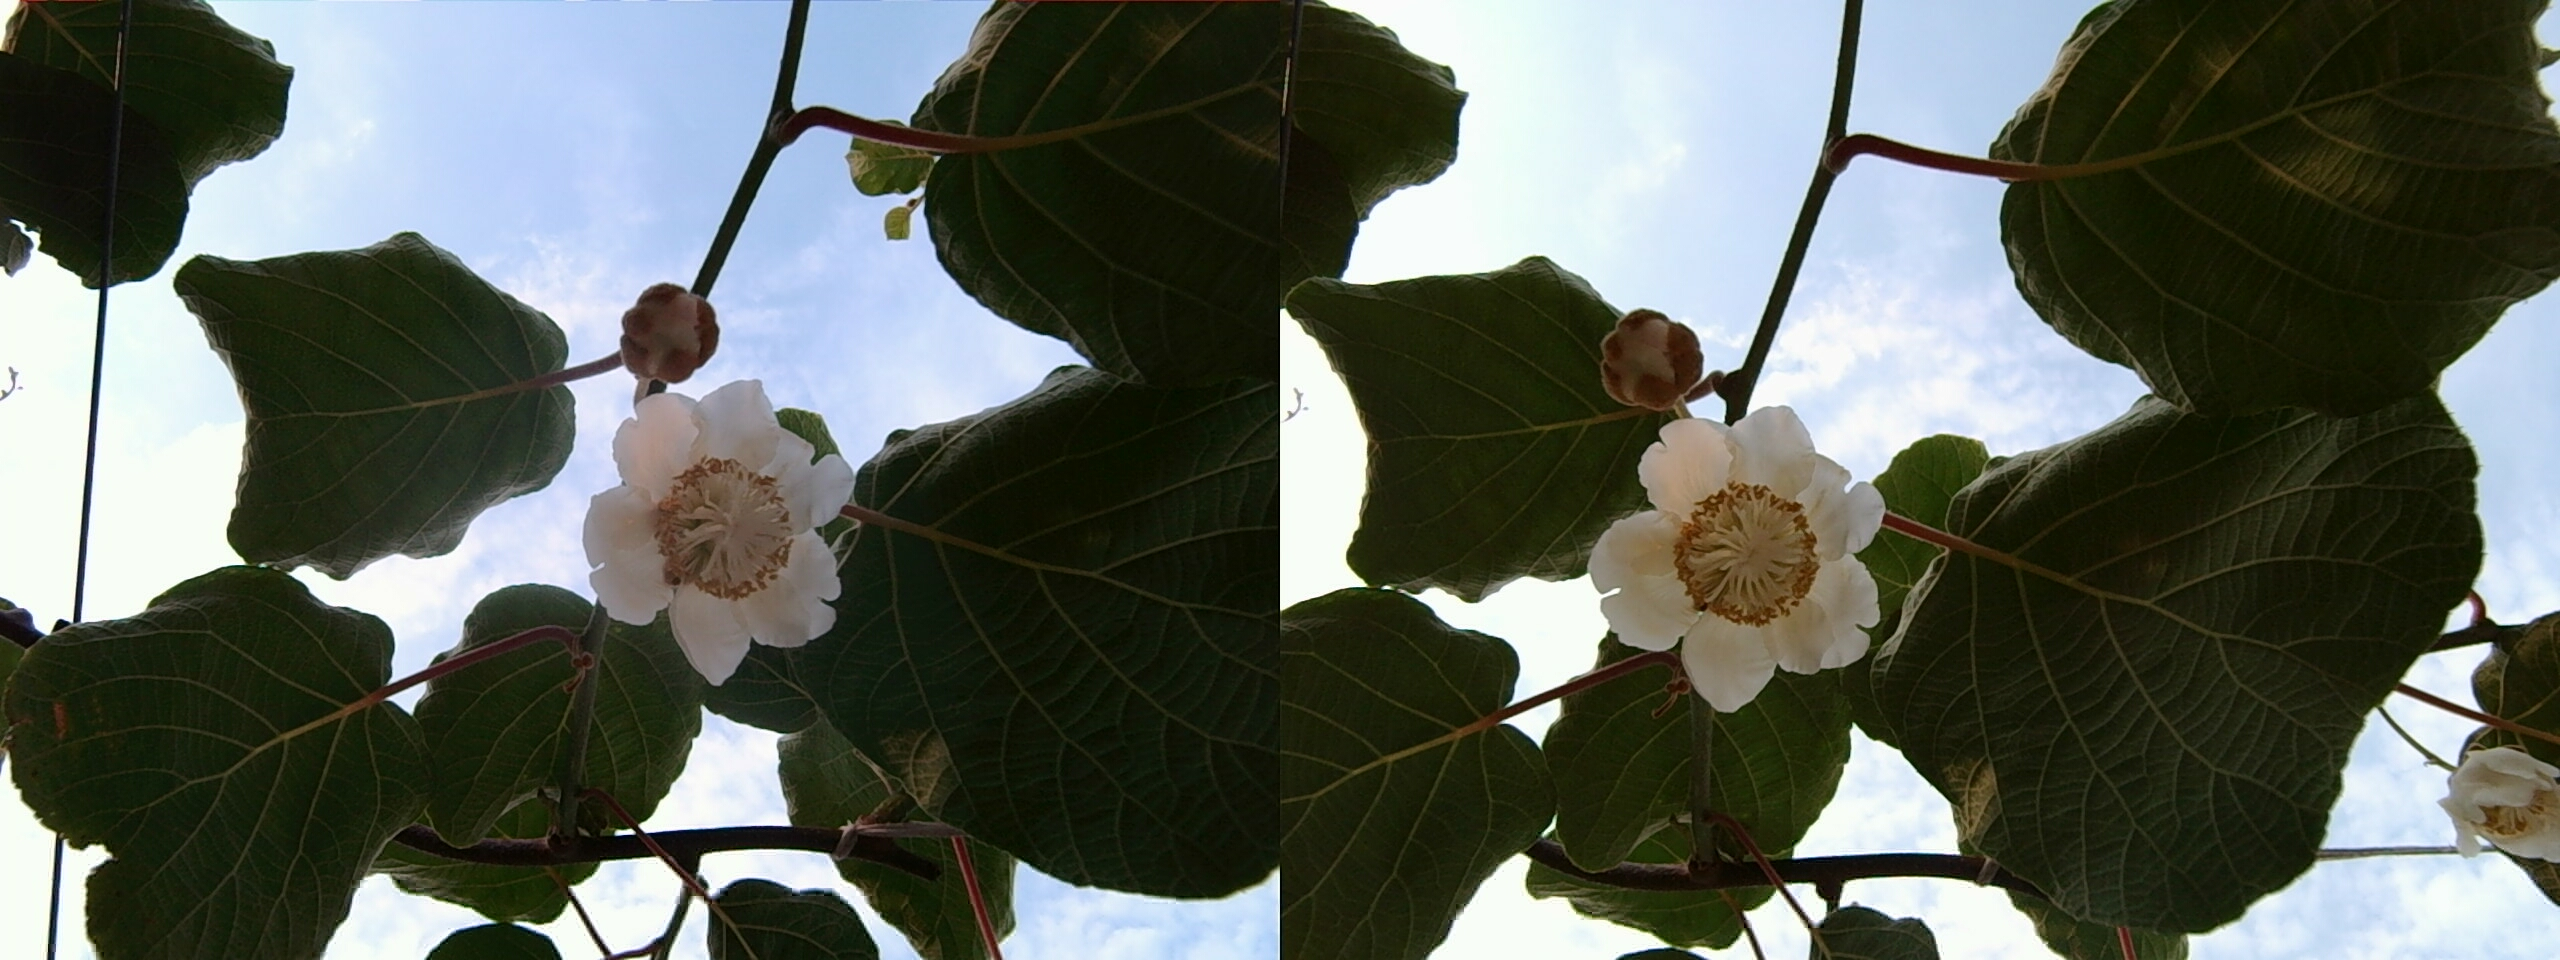flower: (1598, 402, 1878, 687), (584, 380, 851, 671), (2442, 743, 2553, 869)
